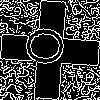O: (25, 25, 74, 68)
